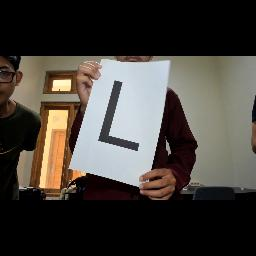l: (93, 74, 147, 154)
